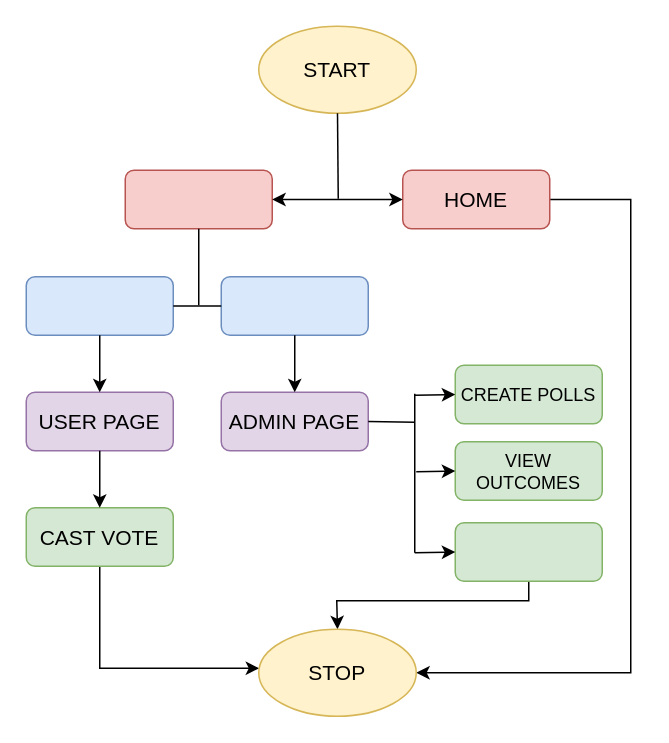
This 669x743 diagram has some shape labels left out. The shapes that lost their labels are listed below. From the top down, each one's centre as x and y in pixels, then its label:
At pixel 198 199: "REGISTER".
At pixel 99 305: "USER".
At pixel 294 305: "ADMIN".
At pixel 528 551: "EDIT POLLS".
